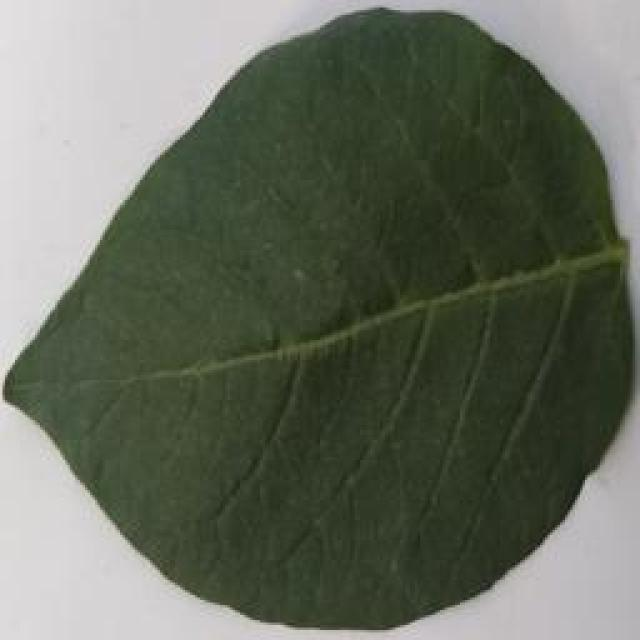Potato_Healthy: (3, 2, 634, 630)
